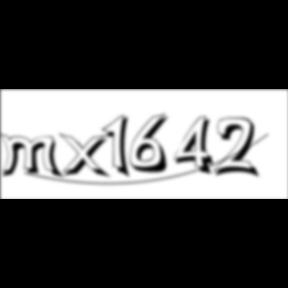1: (101, 114, 136, 182)
2: (214, 117, 264, 181)
4: (174, 115, 220, 179)
6: (130, 112, 174, 176)
m: (0, 132, 66, 181)
x: (60, 132, 114, 181)
